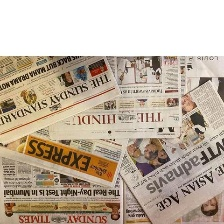news_paper: (117, 80, 224, 224), (52, 53, 188, 144), (0, 54, 125, 147), (0, 120, 128, 191), (0, 152, 126, 223), (124, 52, 224, 138)
